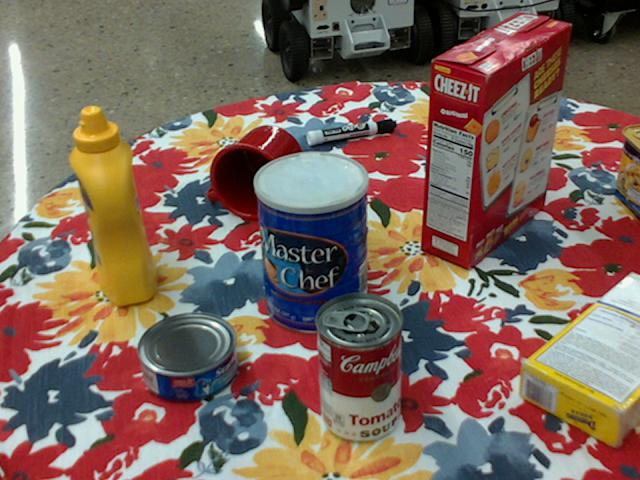cracker_box: (425, 14, 572, 269)
gelatin_box: (468, 116, 531, 165)
large_marker: (306, 117, 396, 144)
master_chef_can: (253, 151, 367, 334)
mug: (206, 125, 302, 221)
mustard_bottle: (69, 107, 158, 306)
potted_meat_can: (615, 123, 639, 220)
sugar_box: (520, 271, 639, 446)
tomato_soup_can: (314, 291, 402, 442)
tuna_fish_can: (134, 312, 235, 401)
